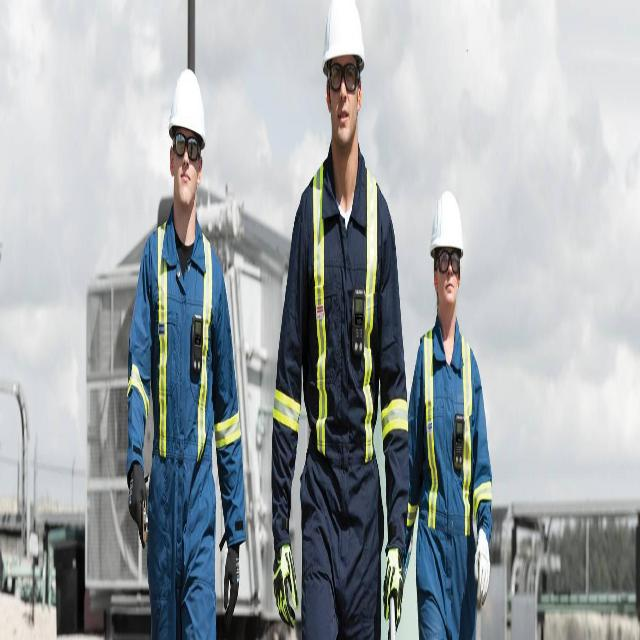Reflective-Jacket: (268, 146, 408, 634), (126, 225, 246, 568), (409, 317, 493, 635)
Safety-Helmet: (167, 60, 208, 146), (426, 178, 466, 264), (319, 0, 366, 73)
